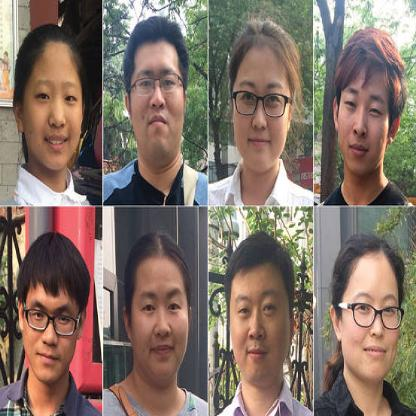person: (123, 232, 195, 392), (334, 233, 404, 397), (14, 230, 88, 385), (12, 24, 87, 168), (334, 25, 404, 176), (232, 27, 303, 175), (229, 231, 294, 392), (122, 13, 188, 170)
